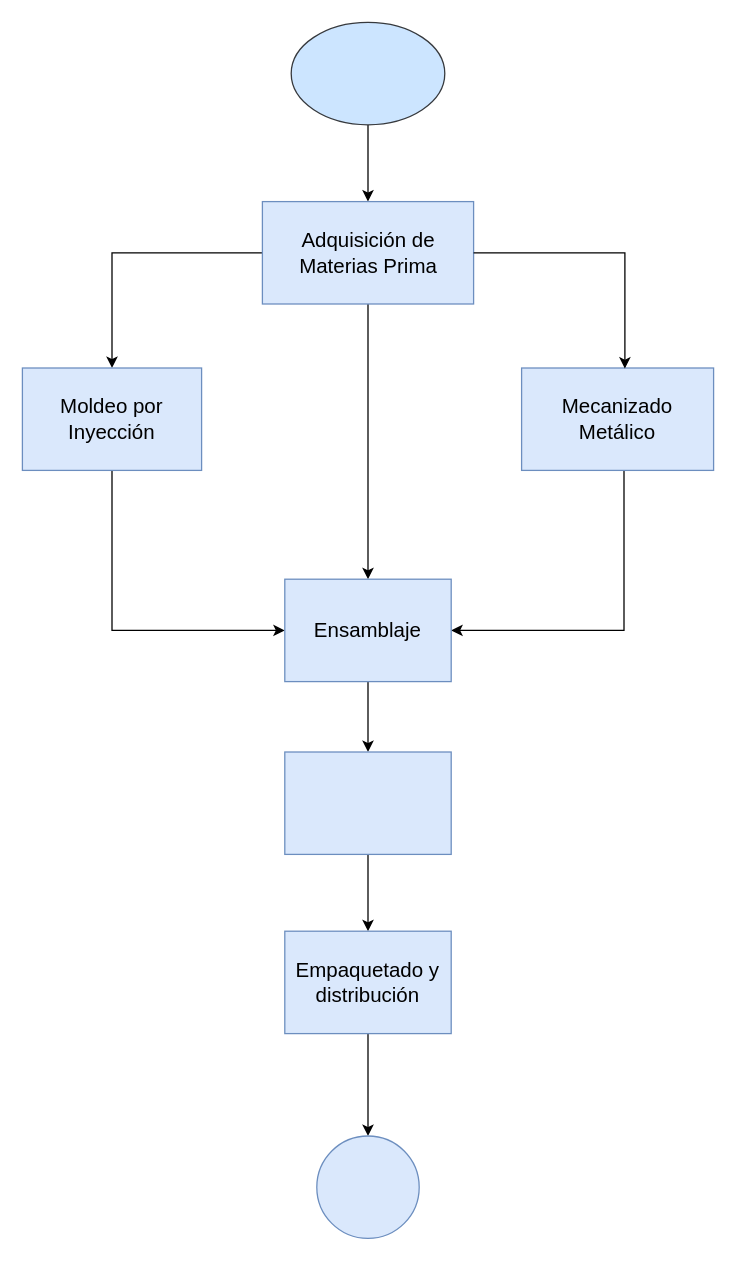
This 736x1261 diagram has some shape labels left out. The centre of each missing label's shape, as x and y in pixels:
"Control de calidad" belongs at (x=367, y=802).
"Fin" belongs at (x=367, y=1186).
"Inicio" belongs at (x=367, y=73).
